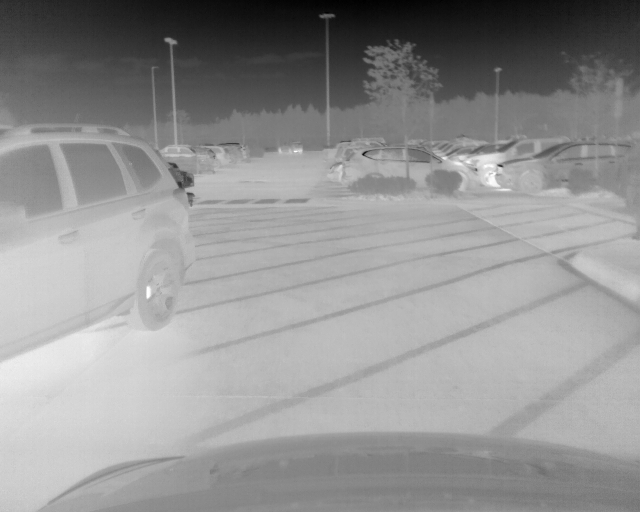car: (2, 120, 200, 367), (493, 139, 640, 191), (339, 146, 480, 194), (468, 136, 571, 188), (159, 145, 215, 170), (204, 144, 233, 168), (277, 141, 304, 154)
people: (622, 132, 640, 238)
